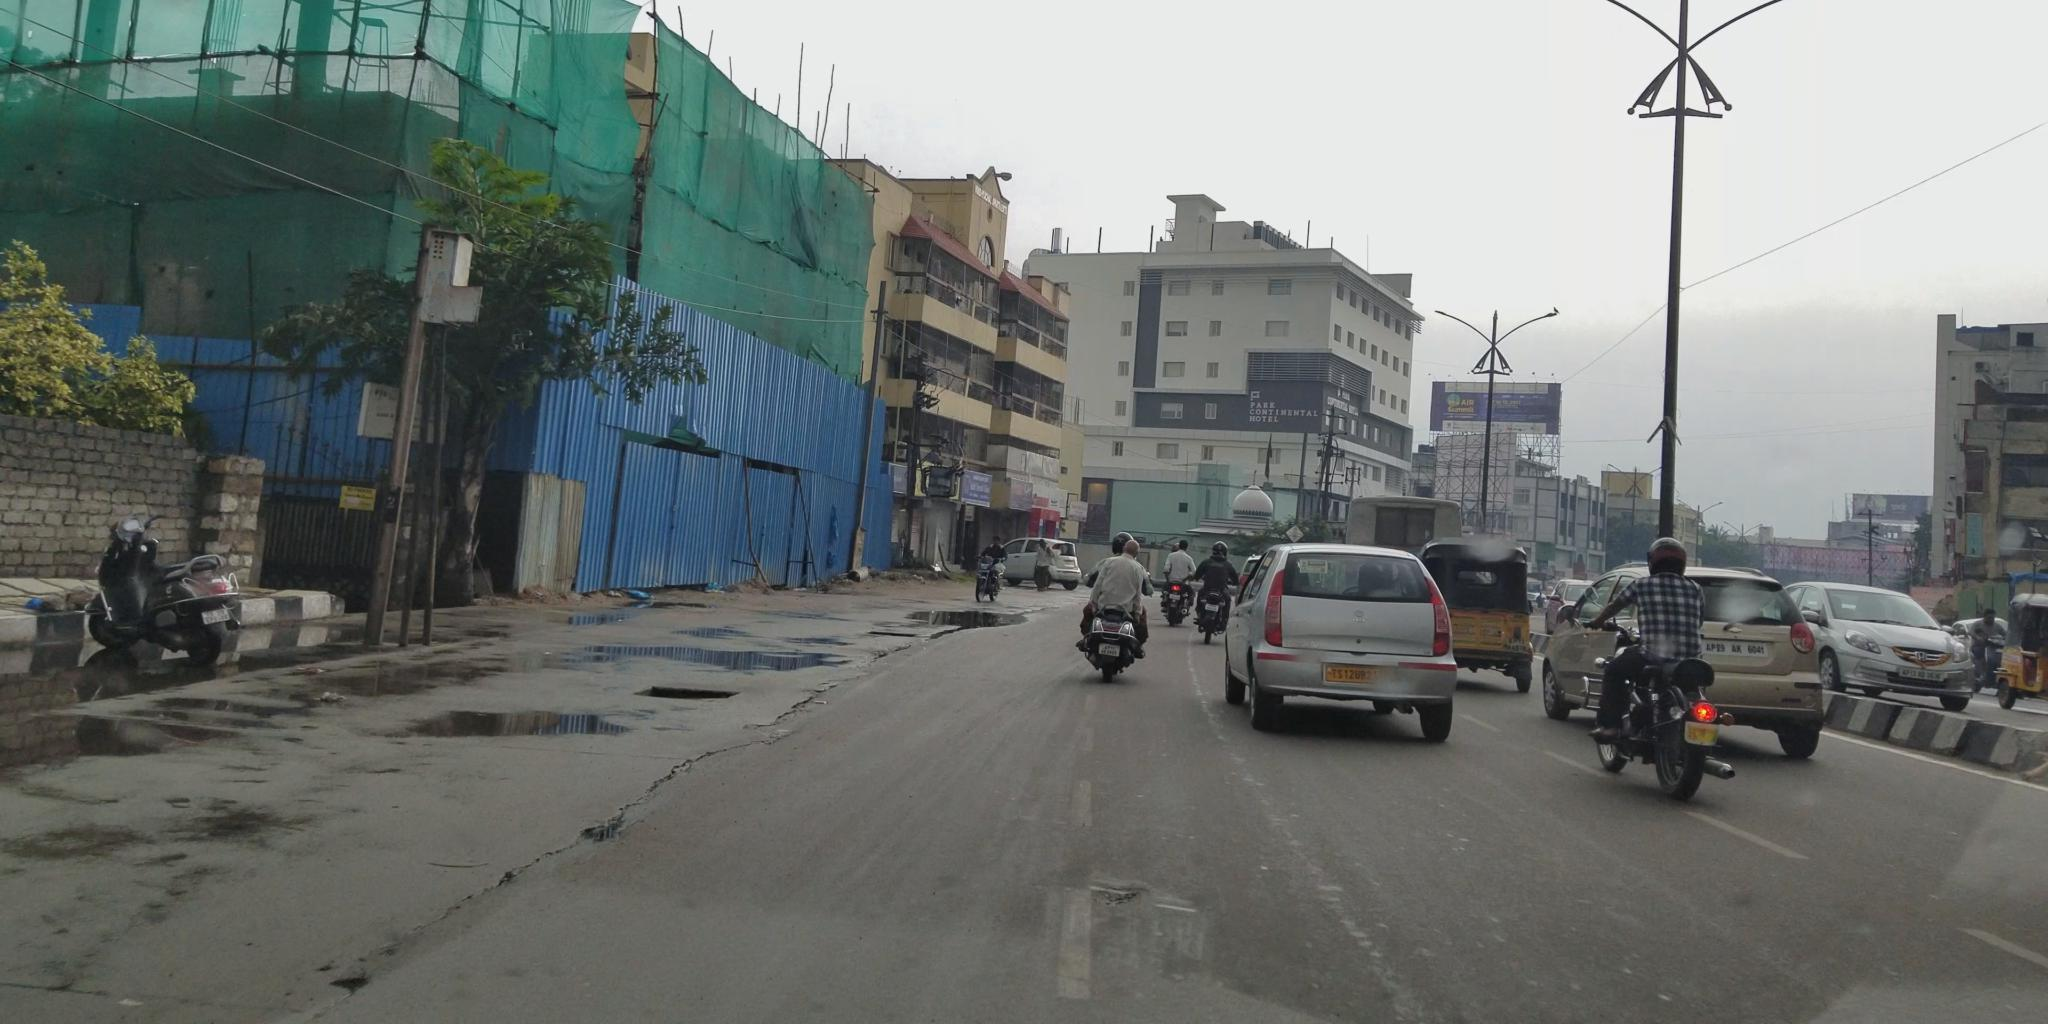off: (0, 0, 2048, 991)
